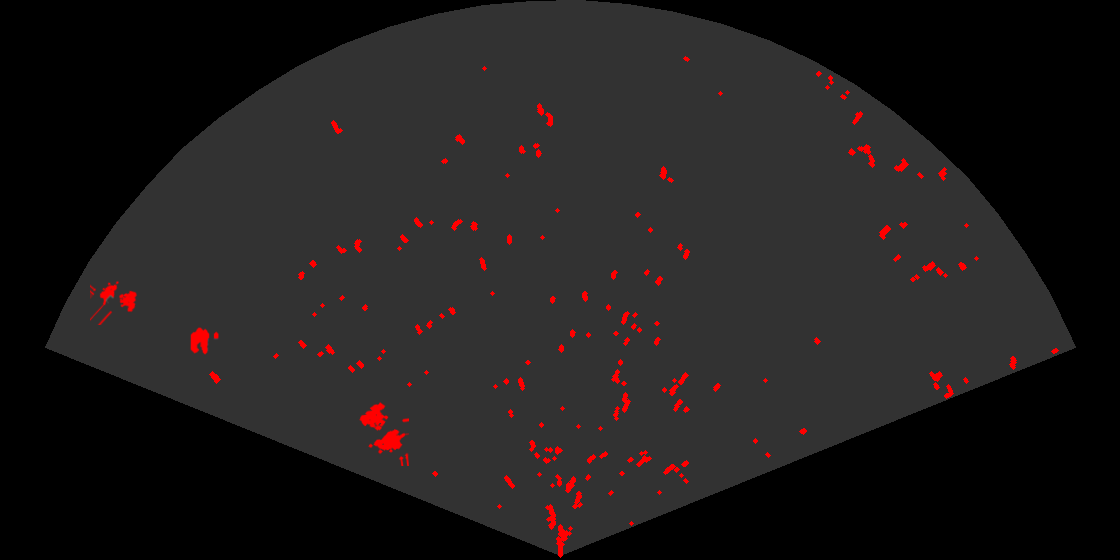ball: (189, 326, 220, 356)
cage: (358, 400, 409, 466), (90, 279, 139, 325)
